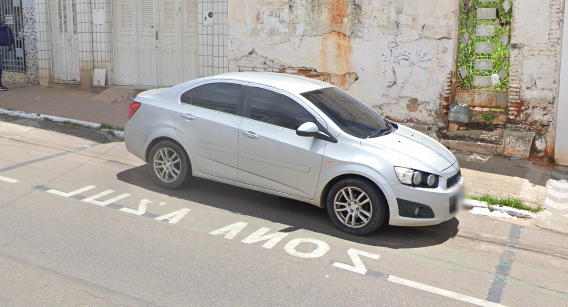car: (122, 46, 465, 244)
